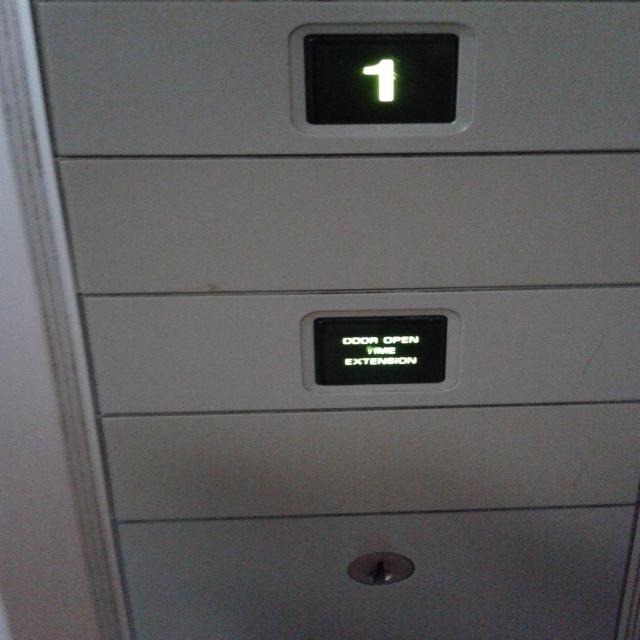1: (283, 17, 483, 138)
text: (296, 306, 464, 396)
